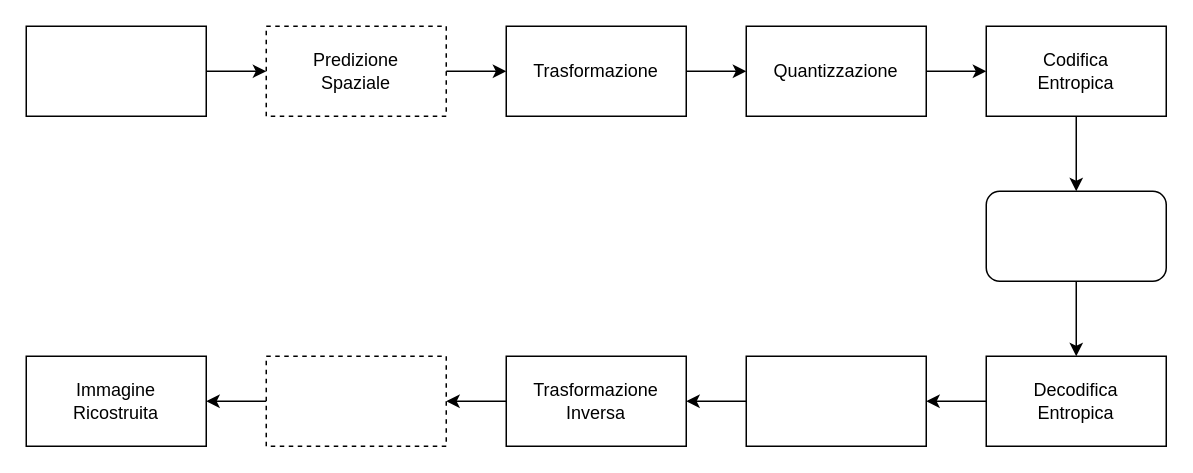
The diagram is 1193 pixels wide and 473 high, and some of its shapes have lost their labels. Here are the shapes that lost their labels. From the top down, the centre of each, then its label:
At pixel 115 70: "Immagine Originale".
At pixel 1075 235: "Canale di Trasmissione".
At pixel 355 400: "Ricostruzione Spaziale".
At pixel 835 400: "Dequantizzazione".
